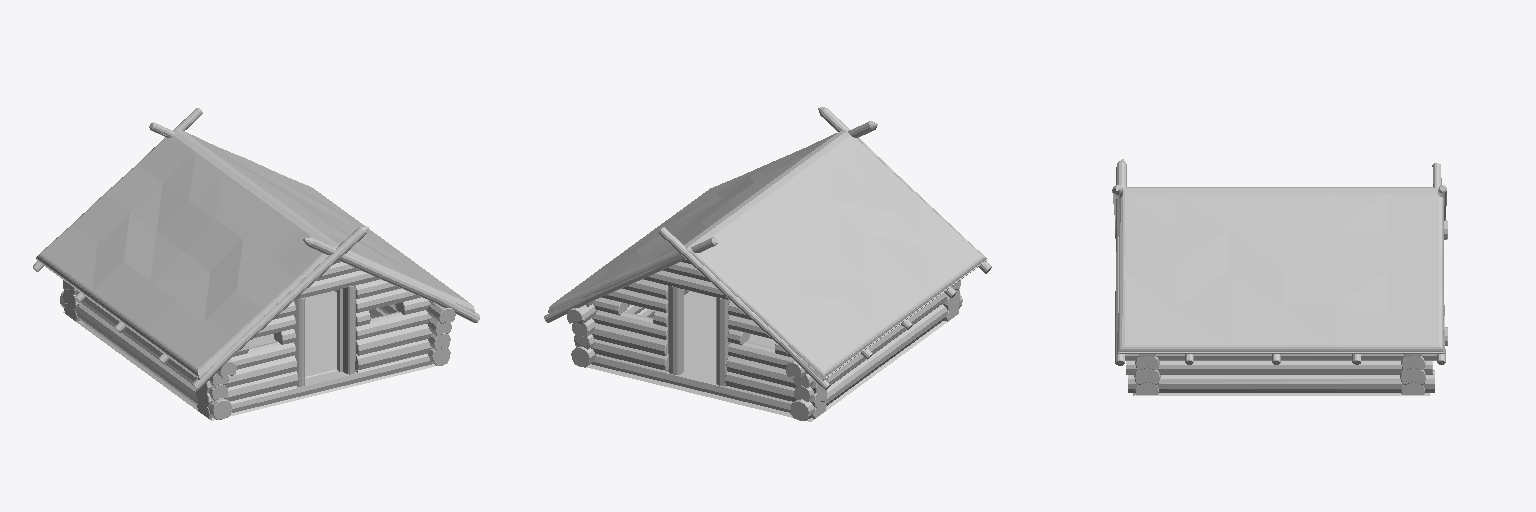
Rendered from herbalist.obj.
The picture shows the model from 3 angles: view 1: azimuth 30°, elevation 25°; view 2: azimuth 150°, elevation 25°; view 3: azimuth 270°, elevation 25°; orthographic projection.
Visible parts, largest first — view 1: roof_Cube.000, wall1_Cube.000, balki_Cube.000, wall3_Cube.000, wall2_Cube.000; view 2: roof_Cube.000, wall1_Cube.001, wall3_Cube.000, balki_Cube.000, wall2_Cube.000, ceiling_Cube.000; view 3: roof_Cube.000, wall2_Cube.000, balki_Cube.000, wall1_Cube.000, wall1_Cube.001, ceiling_Cube.000.
Boxes of the visible parts, x1,y1,x2,y2 form: roof_Cube.000: [36, 130, 474, 420]; wall1_Cube.000: [196, 260, 447, 418]; balki_Cube.000: [33, 108, 479, 390]; wall3_Cube.000: [60, 288, 236, 419]; wall2_Cube.000: [335, 290, 455, 365]; roof_Cube.000: [548, 131, 986, 421]; wall1_Cube.001: [575, 260, 827, 418]; wall3_Cube.000: [785, 292, 962, 420]; balki_Cube.000: [544, 107, 991, 389]; wall2_Cube.000: [567, 290, 688, 367]; ceiling_Cube.000: [548, 254, 986, 379]; roof_Cube.000: [1117, 187, 1444, 395]; wall2_Cube.000: [1125, 327, 1447, 392]; balki_Cube.000: [1112, 159, 1446, 365]; wall1_Cube.000: [1134, 354, 1160, 394]; wall1_Cube.001: [1400, 354, 1425, 394]; ceiling_Cube.000: [1120, 198, 1444, 353].
Bounding box in the file's own units: 6.84 × 3.77 × 6.94.